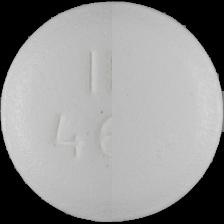60429-092: (0, 0, 224, 224)
